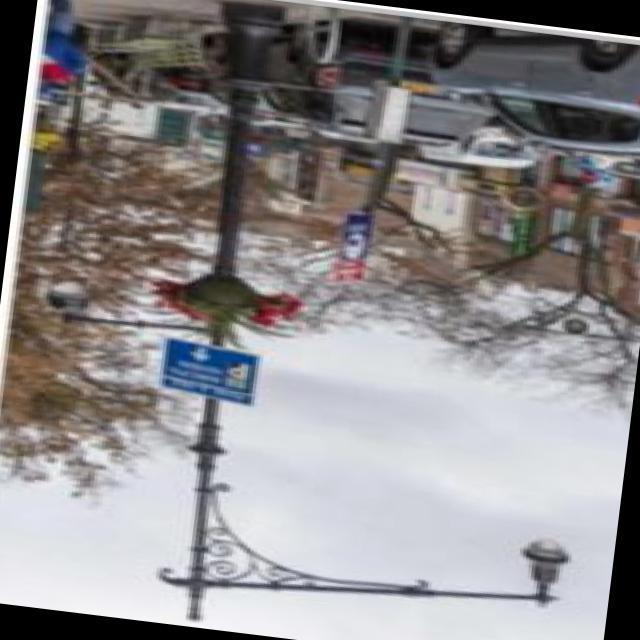off: (232, 516, 588, 640)
